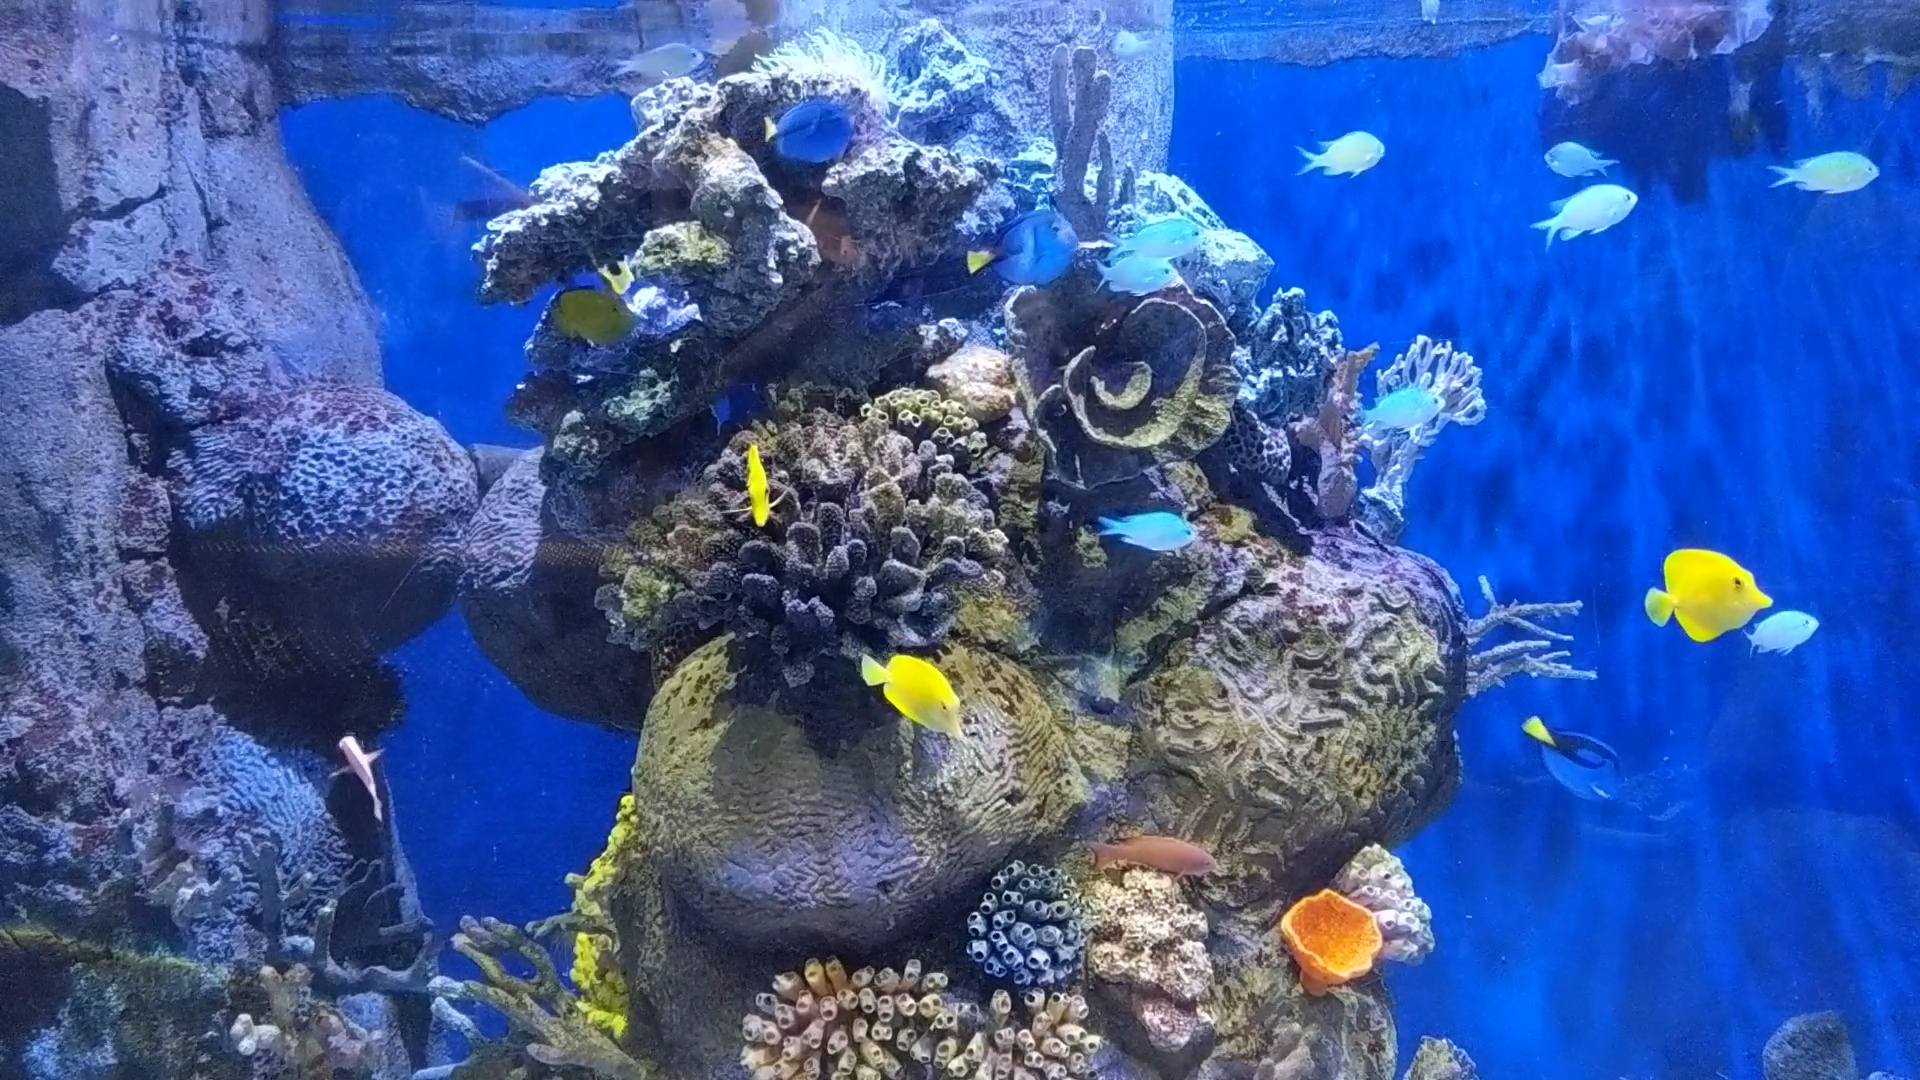blue tang surgeonfish: (1519, 712, 1636, 810), (957, 214, 1080, 285), (756, 102, 861, 166)
damselfish: (1532, 185, 1639, 261), (1291, 131, 1394, 189), (1743, 595, 1821, 663), (1100, 218, 1215, 262), (1771, 146, 1876, 194), (1360, 381, 1455, 431), (1101, 506, 1203, 553), (1088, 249, 1185, 291), (611, 41, 709, 82), (1545, 137, 1621, 179), (1108, 30, 1174, 71)
saddle butterfly fish: (1636, 546, 1778, 646), (858, 649, 967, 741), (538, 285, 655, 349), (737, 434, 775, 531)
